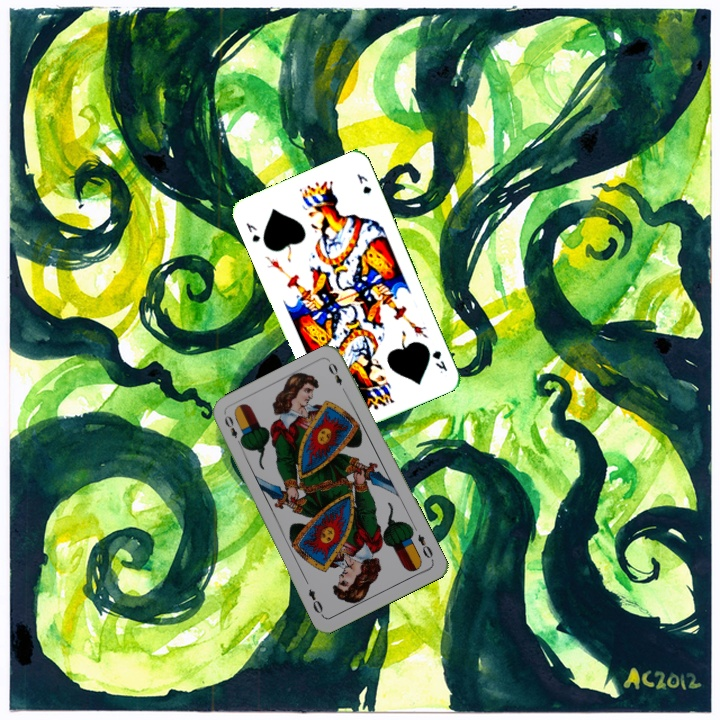EO: (220, 411, 245, 449), (413, 530, 436, 564)
GK: (428, 345, 450, 376), (242, 219, 263, 245)
